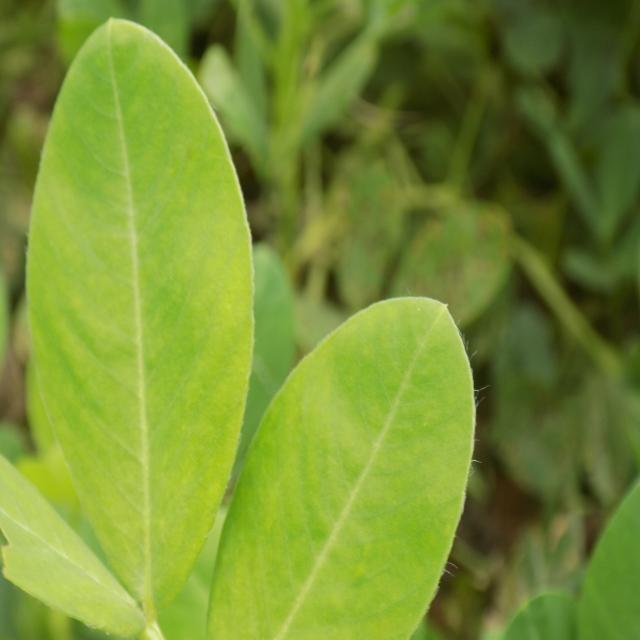Ground nut_healthy: (24, 15, 251, 625)
